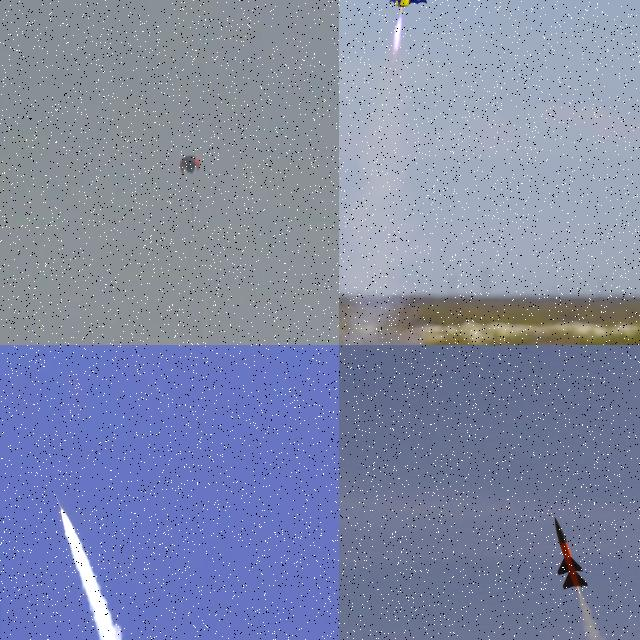Rocket: (555, 516, 589, 590), (54, 492, 63, 511), (191, 223, 195, 231)
